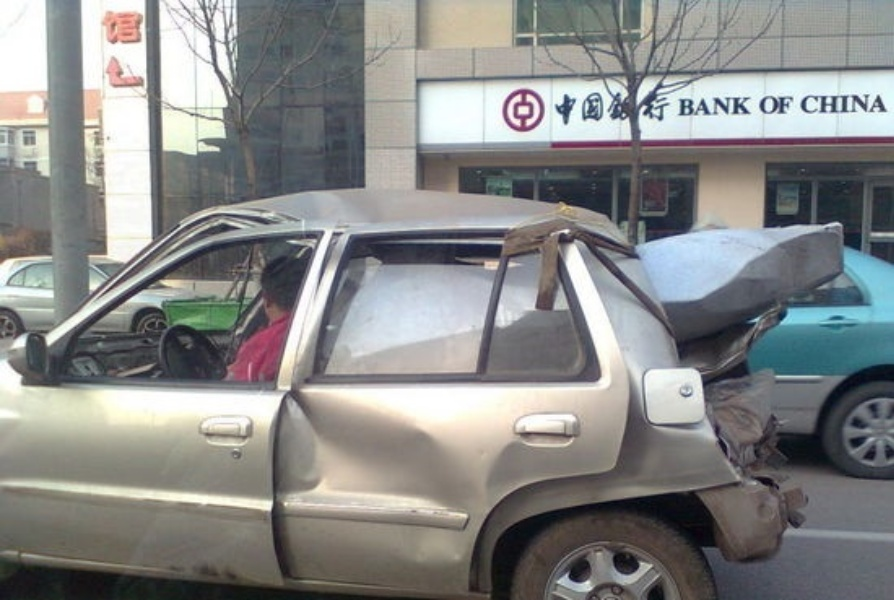text: (129, 10, 145, 48), (113, 10, 128, 48), (561, 92, 576, 127), (577, 92, 592, 127), (593, 92, 608, 127), (609, 92, 624, 127), (625, 92, 640, 127), (641, 92, 656, 127), (101, 10, 112, 48), (657, 92, 667, 127), (689, 96, 704, 118), (705, 96, 720, 118), (721, 96, 736, 118), (769, 95, 784, 116), (801, 95, 816, 116), (817, 95, 832, 116), (833, 95, 848, 116), (849, 95, 864, 116), (865, 95, 880, 116), (737, 96, 751, 118), (677, 96, 688, 118), (758, 95, 768, 116), (785, 95, 794, 116), (881, 95, 890, 116), (556, 92, 560, 127)
